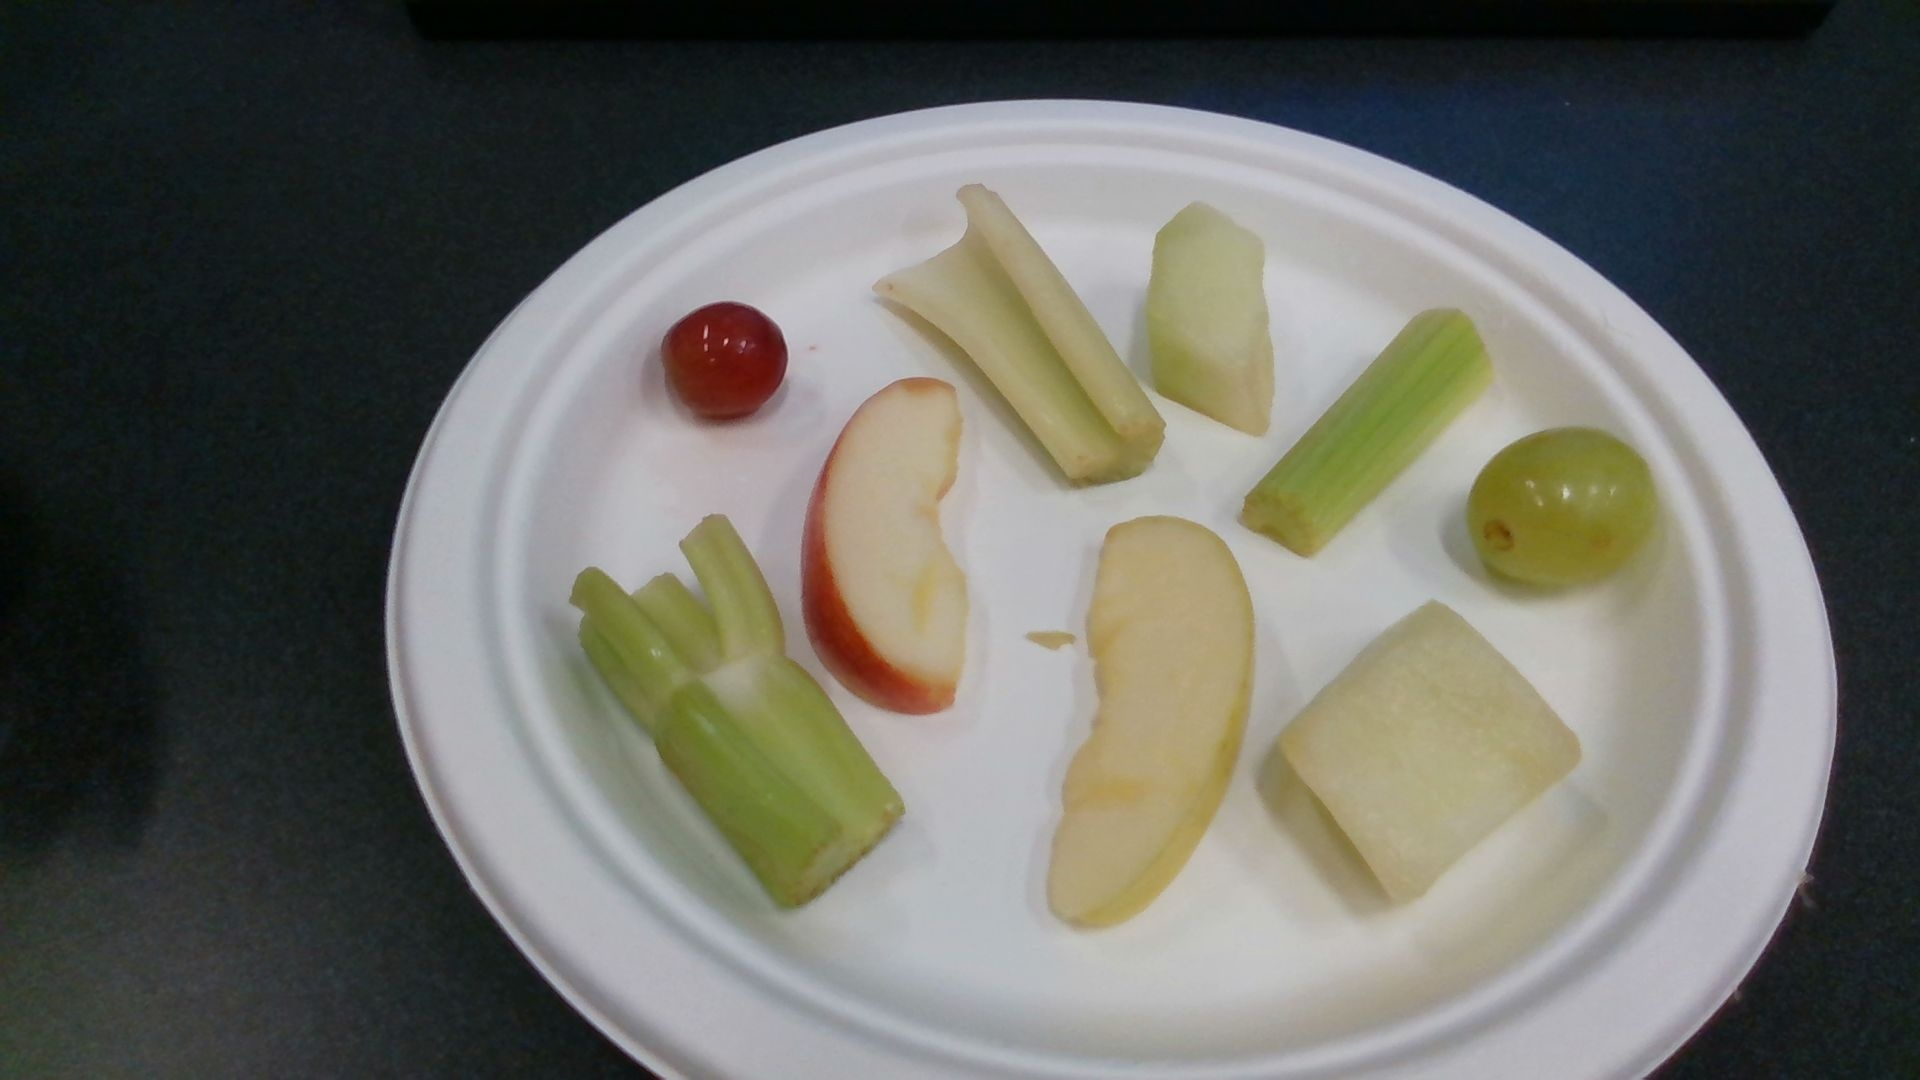apple: (1052, 516, 1255, 928), (802, 380, 969, 715)
cantalope: (1274, 600, 1580, 895), (1150, 203, 1275, 433)
celery: (568, 513, 899, 901), (872, 185, 1164, 485), (1245, 311, 1491, 553)
grape_green: (1472, 430, 1658, 585)
grape_purple: (665, 305, 787, 419)
